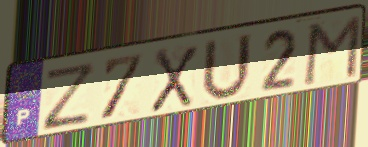2: (260, 27, 300, 93)
7: (101, 51, 145, 123)
M: (300, 13, 364, 88)
U: (198, 31, 254, 104)
X: (148, 43, 201, 115)
Z: (41, 59, 99, 133)
